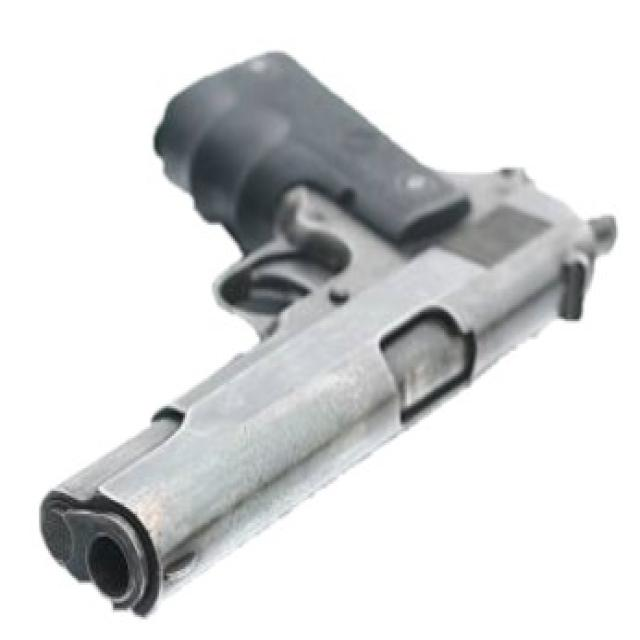pistol: (31, 45, 623, 622)
